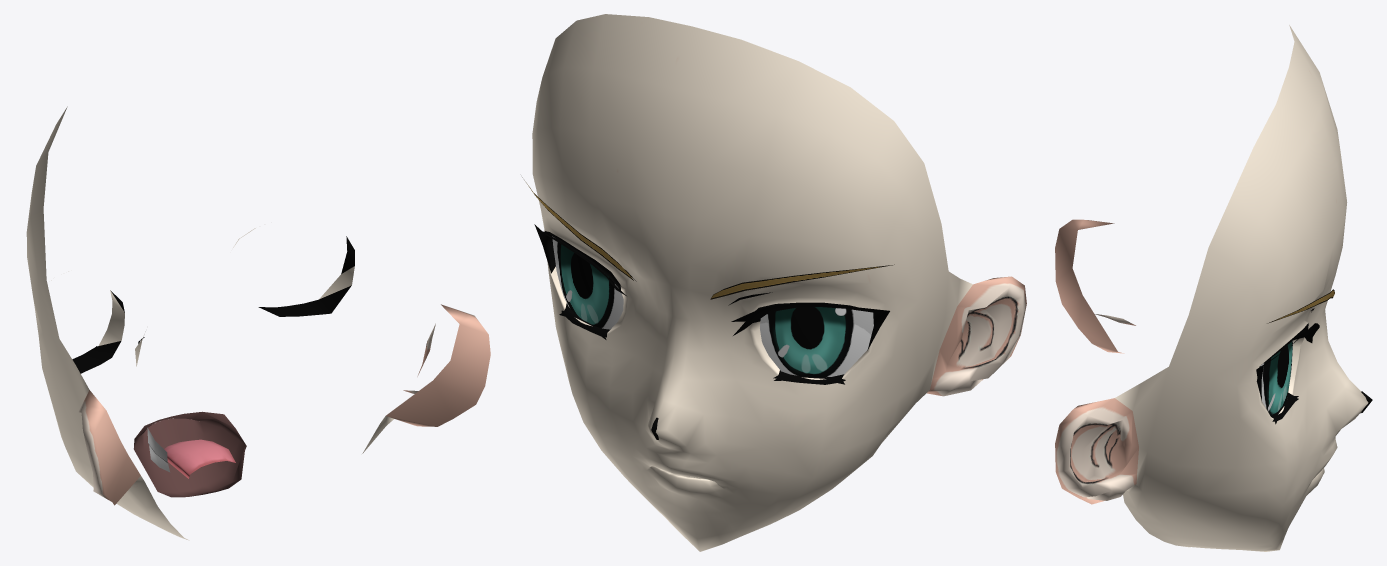
The model's file is saber_face.gltf.
3 views of the same model, side by side, from view 1: azimuth 30°, elevation 25°; view 2: azimuth 150°, elevation 25°; view 3: azimuth 270°, elevation 25° (orthographic). The views are drawn at different scales.
Parts seen in each view (by area): view 1: F010_Saber_Face; view 2: F010_Saber_Face; view 3: F010_Saber_Face.
Boxes of the visible parts, x1,y1,x2,y2 form: F010_Saber_Face: (26, 106, 490, 540); F010_Saber_Face: (522, 14, 1026, 551); F010_Saber_Face: (1055, 25, 1372, 551).
Bounding box in the file's own units: 0.1517 × 0.1796 × 0.1014.
